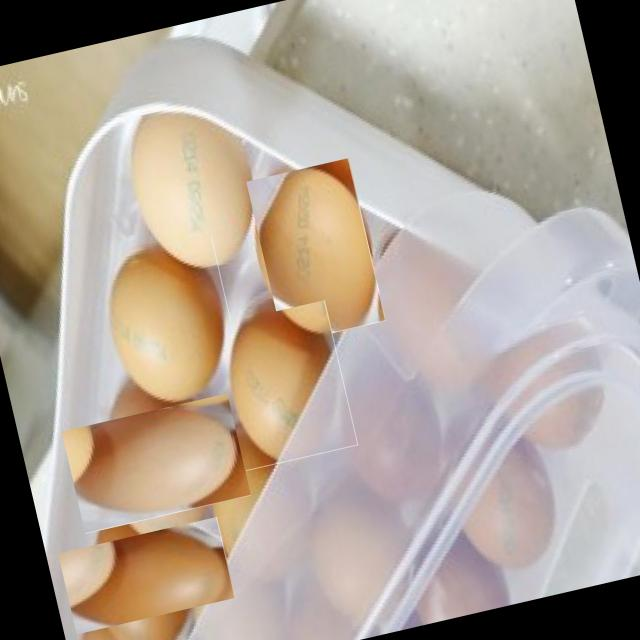eggs: (118, 89, 266, 282), (91, 235, 246, 417), (73, 380, 238, 546), (246, 158, 386, 344), (212, 300, 358, 470), (72, 501, 220, 640)
